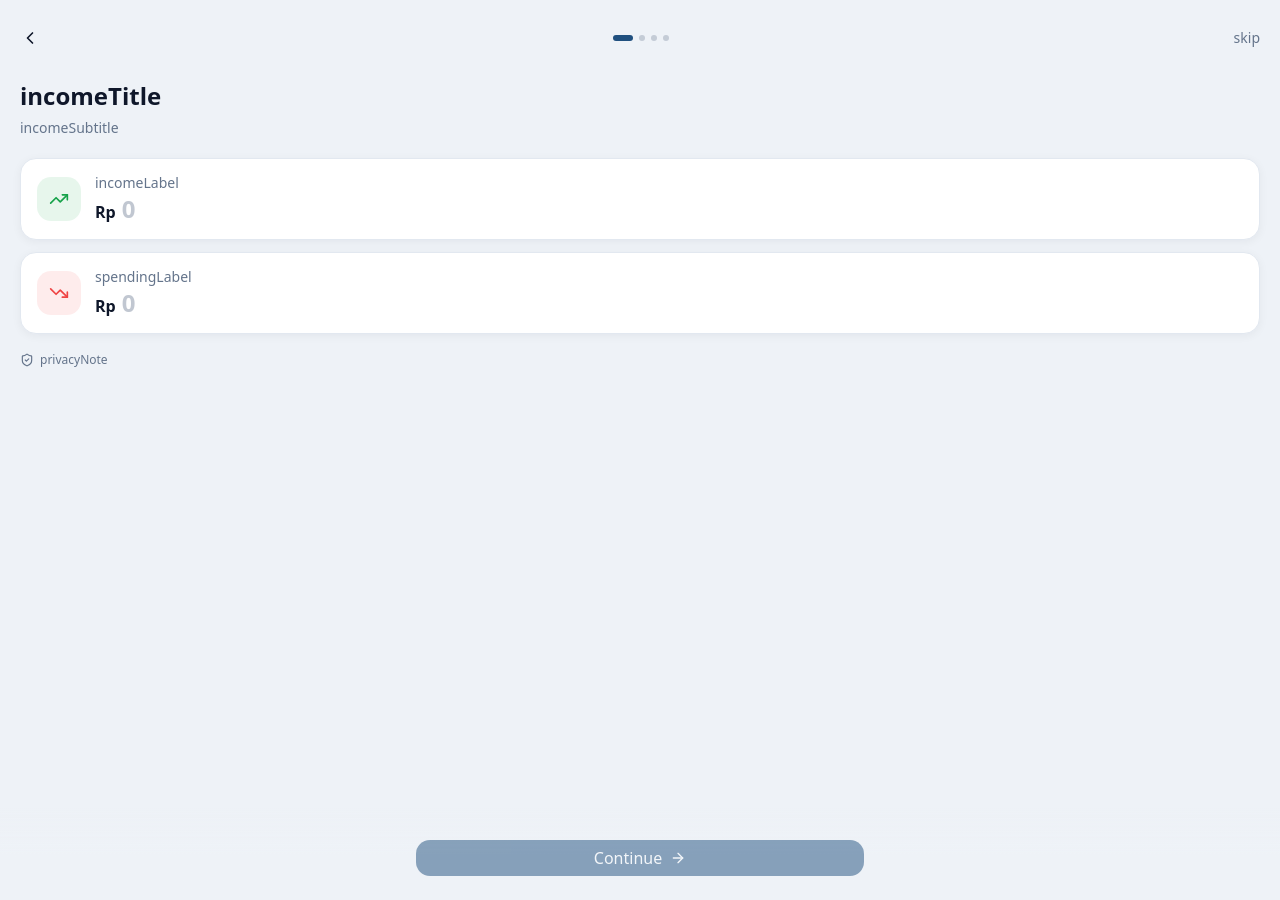
Scenario: HealthCheckPage (multi-step) › disables Continue on step 1 until income is entered
This screenshot has width=1280, height=900.
expect the button "Continue" is disabled: met, box [416,840,864,876]
Type "5000000" into the field with test id "hc-income" at point(682, 209), box [122,193,1243,225]
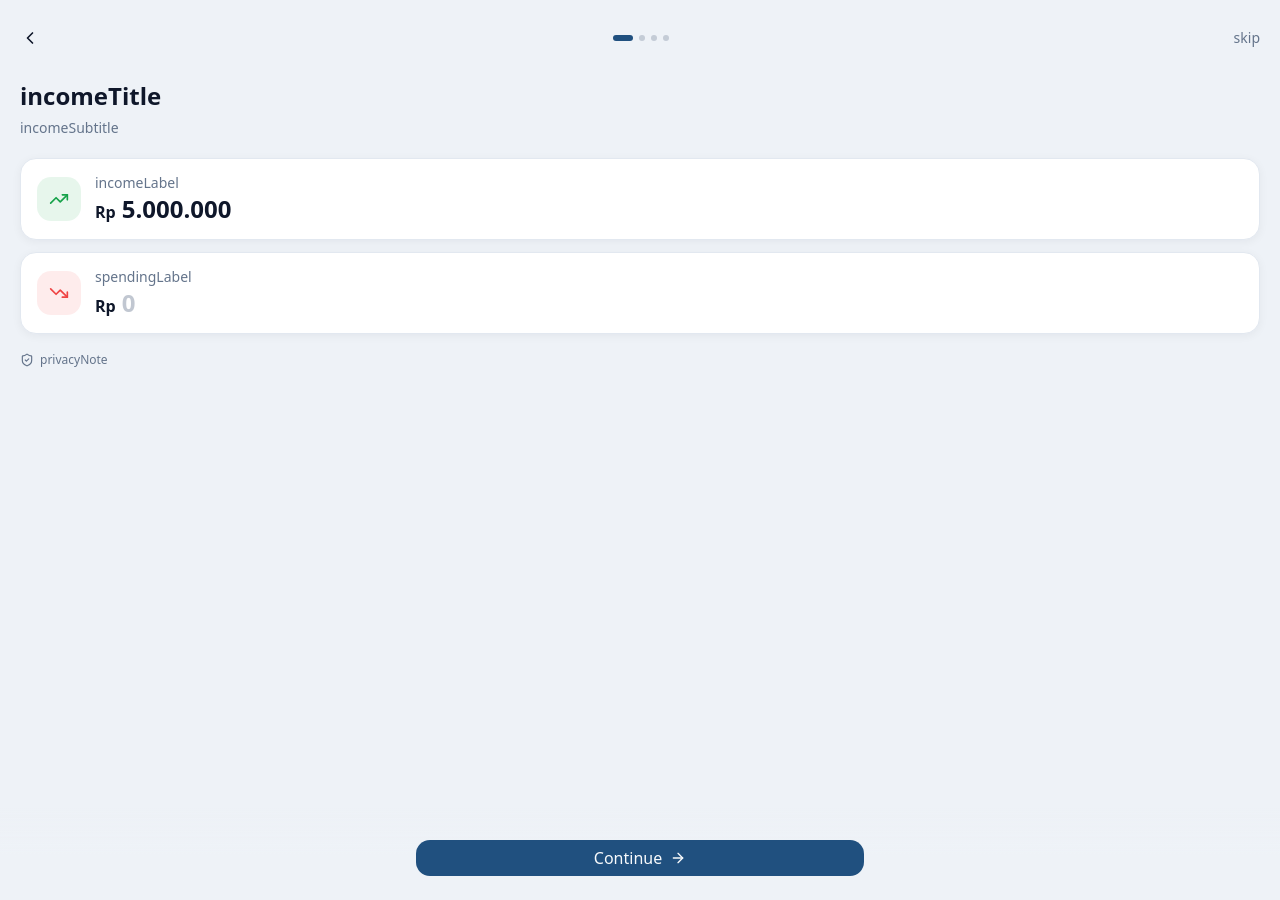
expect the button "Continue" is enabled: met, box [416,840,864,876]
